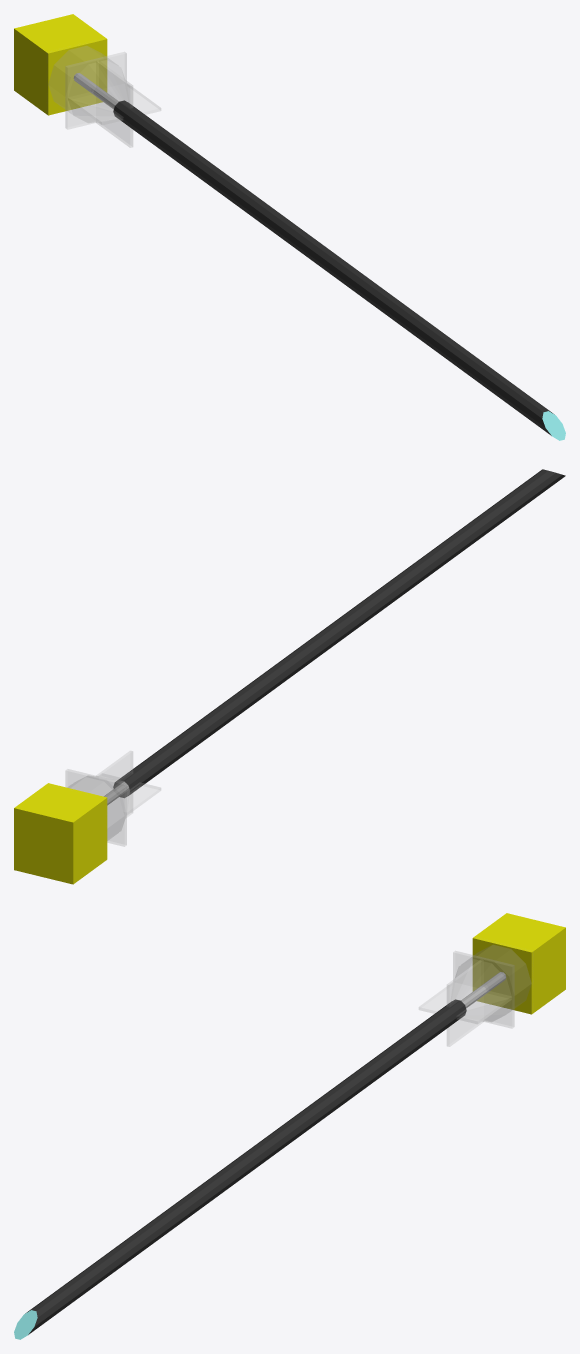
The model's file is spinalNeedleStylet.fbx.
3 renders of one model, top to bottom at view 1: azimuth 30°, elevation 25°; view 2: azimuth 150°, elevation 25°; view 3: azimuth 330°, elevation 25°, orthographic.
Visible parts, largest first — view 1: Needle1, StyletHead, pCone1, pCube1, pCylinder2, pCube2, pCube3; view 2: Needle1, StyletHead, pCube1, pCylinder2, pCube2, pCube3; view 3: Needle1, StyletHead, pCone1, pCube1, pCylinder2, pCube2, pCube3.
Boxes of the visible parts, box(x1,y1,x2,y2) form: Needle1: box(113, 100, 565, 440); StyletHead: box(14, 14, 107, 115); pCone1: box(68, 60, 125, 122); pCube1: box(65, 52, 126, 129); pCylinder2: box(48, 46, 116, 114); pCube2: box(96, 60, 132, 147); pCube3: box(68, 83, 160, 124); Needle1: box(113, 469, 565, 797); StyletHead: box(14, 783, 107, 884); pCube1: box(65, 769, 126, 846); pCylinder2: box(68, 777, 123, 840); pCube2: box(96, 751, 132, 817); pCube3: box(99, 773, 160, 814); Needle1: box(14, 999, 466, 1339); StyletHead: box(472, 913, 565, 1014); pCone1: box(454, 959, 511, 1021); pCube1: box(453, 951, 514, 1028); pCylinder2: box(463, 945, 531, 1013); pCube2: box(447, 959, 483, 1046); pCube3: box(419, 982, 511, 1023).
Bounding box in the file's own units: 0.007 × 0.007 × 0.1061.
